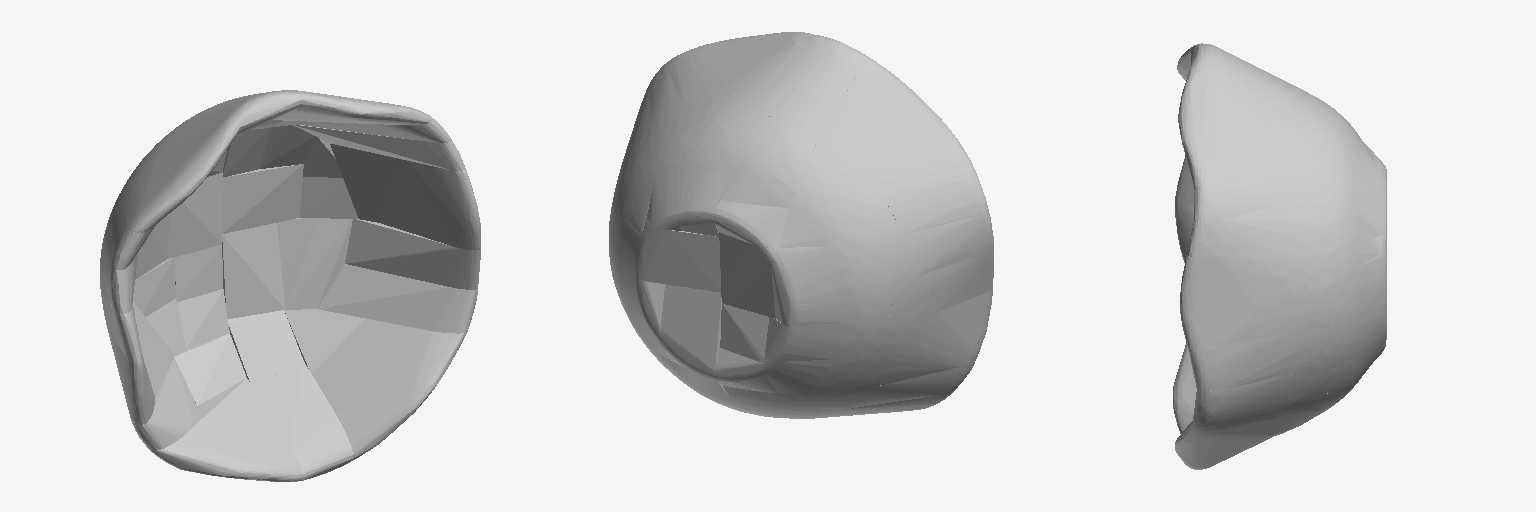
File: coacd_collision.obj
3 renders of one model, left to right at view 1: azimuth 30°, elevation 25°; view 2: azimuth 150°, elevation 25°; view 3: azimuth 270°, elevation 25°, orthographic.
Visible parts, largest first — view 1: geometry_15, geometry_3, geometry_18, geometry_1, geometry_30, geometry_9, geometry_13, geometry_19, geometry_20, geometry_24, geometry_11, geometry_27 (+23 smaller); view 2: geometry_1, geometry_31, geometry_2, geometry_0, geometry_28, geometry_12, geometry_10, geometry_19, geometry_23, geometry_20, geometry_36, geometry_6 (+19 smaller); view 3: geometry_2, geometry_30, geometry_16, geometry_13, geometry_29, geometry_7, geometry_18, geometry_15, geometry_26, geometry_25, geometry_0, geometry_33 (+8 smaller).
Part boxes in pixels (x1,y1,x2,y2): geometry_15: (312, 319, 467, 460); geometry_3: (149, 378, 302, 481); geometry_18: (318, 264, 477, 333); geometry_1: (129, 115, 239, 232); geometry_30: (380, 160, 480, 249); geometry_9: (252, 362, 352, 480); geometry_13: (345, 219, 480, 289); geometry_19: (222, 223, 284, 318); geometry_20: (222, 164, 303, 233); geometry_24: (284, 218, 352, 309); geometry_11: (228, 310, 303, 384); geometry_27: (167, 172, 222, 258); geometry_1: (791, 58, 974, 203); geometry_31: (771, 240, 891, 325); geometry_2: (666, 32, 809, 143); geometry_0: (757, 34, 869, 142); geometry_28: (875, 288, 992, 383); geometry_12: (720, 113, 816, 207); geometry_10: (779, 195, 901, 247); geometry_19: (661, 284, 721, 378); geometry_23: (881, 212, 993, 282); geometry_20: (639, 218, 720, 292); geometry_36: (764, 315, 890, 361); geometry_6: (881, 171, 988, 234); geometry_2: (1178, 64, 1335, 190); geometry_30: (1180, 240, 1309, 347); geometry_16: (1194, 150, 1347, 223); geometry_13: (1188, 328, 1314, 391); geometry_29: (1310, 185, 1380, 283); geometry_7: (1187, 195, 1309, 256); geometry_18: (1193, 369, 1314, 424); geometry_15: (1175, 408, 1275, 469); geometry_26: (1310, 254, 1386, 328); geometry_25: (1336, 297, 1386, 389); geometry_0: (1191, 43, 1302, 103); geometry_33: (1334, 166, 1386, 237).
Bounding box in the file's own units: 110 × 111 × 55.76.